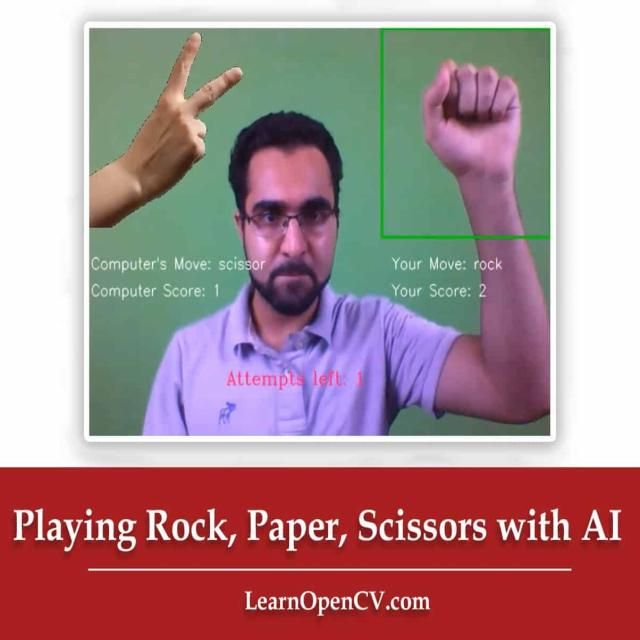rock: (421, 56, 524, 172)
scissors: (140, 34, 242, 184)
